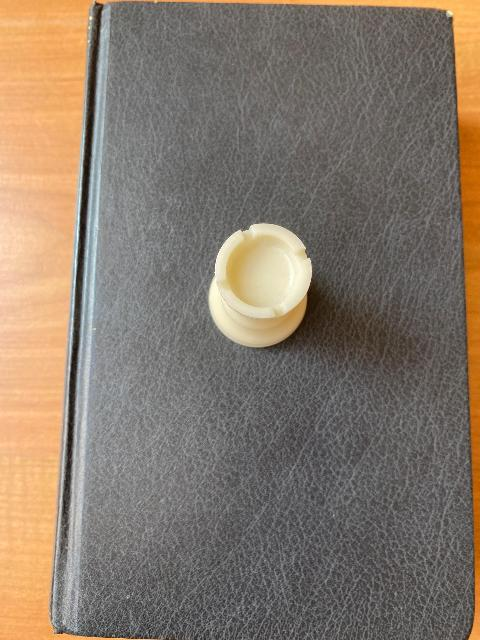white-rook: (208, 222, 314, 348)
